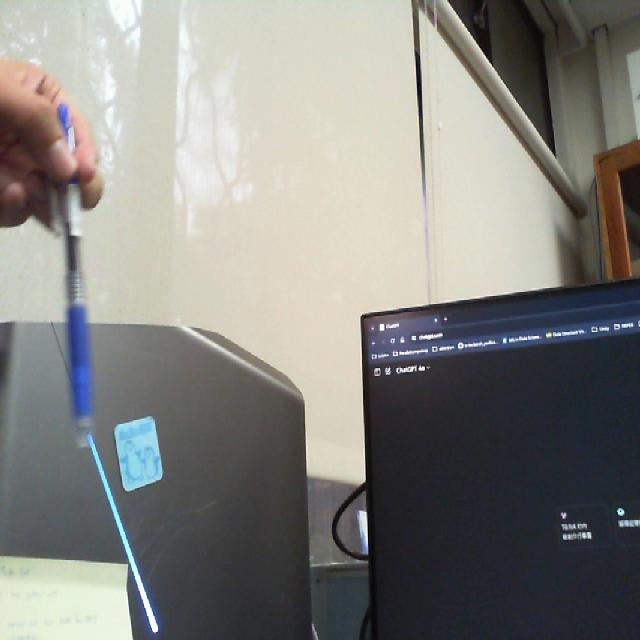Pen: (34, 94, 116, 463)
